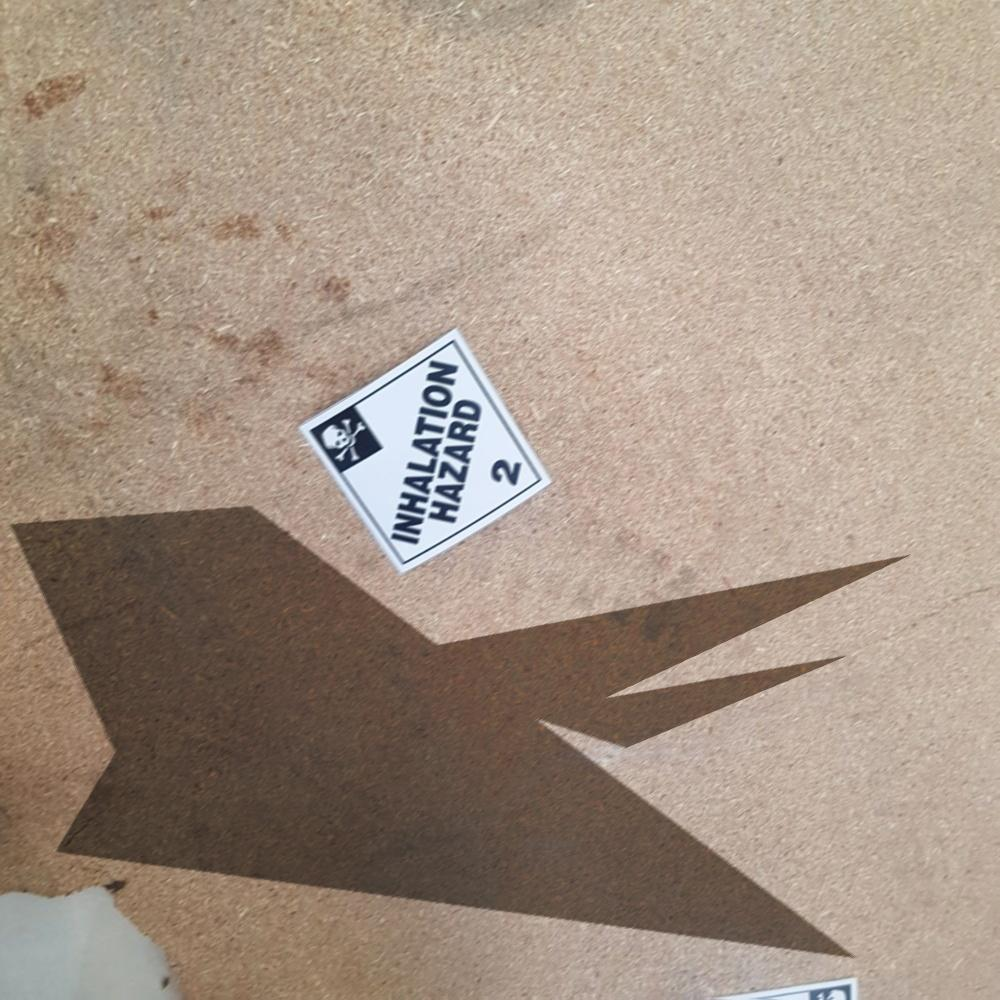poison: (301, 319, 551, 584)
